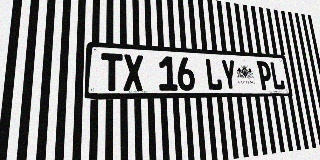1: (158, 56, 178, 91)
6: (176, 57, 195, 91)
L: (204, 58, 223, 90), (269, 62, 286, 90)
P: (256, 61, 273, 90)
T: (101, 53, 123, 91)
X: (123, 54, 144, 91)
Y: (220, 59, 238, 90)
